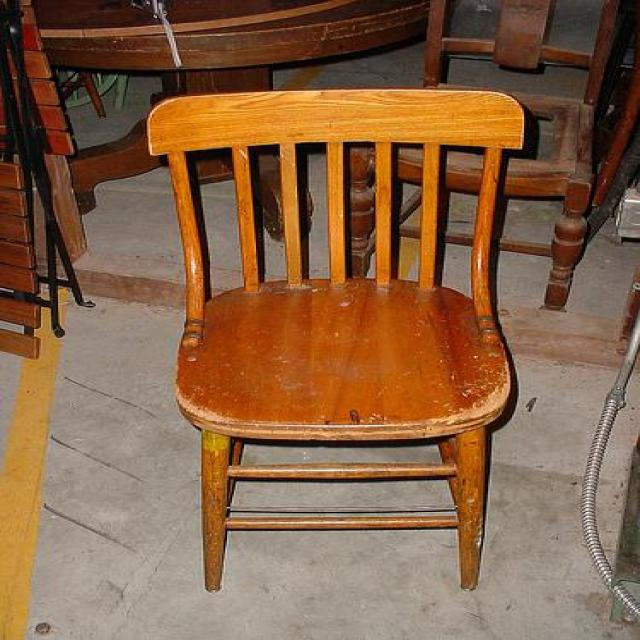chair: (143, 86, 524, 594)
